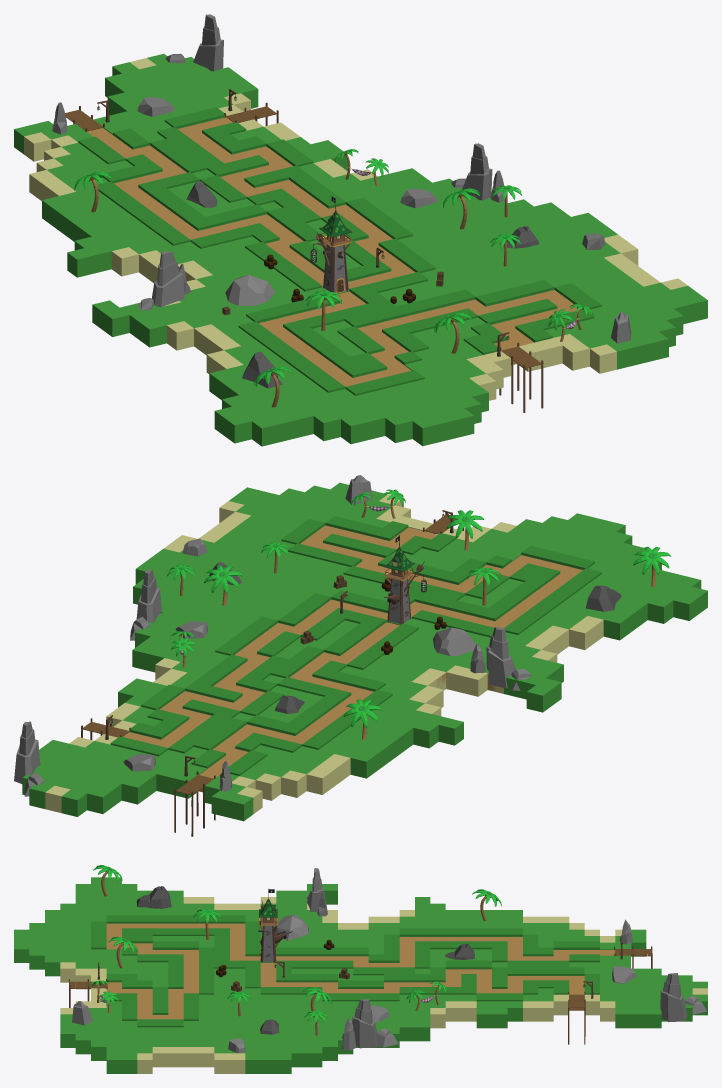
File: small island 3mer.fbx
The picture shows the model from 3 angles, top to bottom: view 1: azimuth 30°, elevation 25°; view 2: azimuth 150°, elevation 25°; view 3: azimuth 270°, elevation 25°; orthographic projection. The views are drawn at different scales.
Parts seen in each view (by area): view 1: Rock.009, Palm Tree.001, Tower, Dock.001, Lampost, Grass.560, Sand.012, Grass.437, Grass.608, Grass.337, Sand.027, Grass.082 (+7 smaller); view 2: Rock.009, Palm Tree.001, Tower, Dock.002, Lampost, Grass.368, Grass.556, Grass.093, Grass.802, Grass.369, Grass.522, Grass.042 (+8 smaller); view 3: Rock.009, Palm Tree.001, Tower, Dock, Lampost, Dock.002, Dock.001, Grass.020, Sand.006, Sand.041, Grass.602.
Part boxes in pixels (<box>): Rock.009: <box>52,14,631,388</box>; Palm Tree.001: <box>74,149,593,407</box>; Tower: <box>310,196,352,293</box>; Dock.001: <box>497,332,543,412</box>; Lampost: <box>222,247,443,315</box>; Grass.560: <box>313,411,340,441</box>; Sand.012: <box>562,341,589,370</box>; Grass.437: <box>224,414,251,443</box>; Grass.608: <box>412,417,439,446</box>; Grass.337: <box>67,248,94,277</box>; Sand.027: <box>111,247,138,276</box>; Grass.082: <box>139,318,166,347</box>; Rock.009: <box>14,475,621,796</box>; Palm Tree.001: <box>167,489,670,739</box>; Tower: <box>384,535,426,624</box>; Dock.002: <box>174,756,215,836</box>; Lampost: <box>300,575,446,654</box>; Grass.368: <box>647,596,673,623</box>; Grass.556: <box>603,613,629,640</box>; Grass.093: <box>526,685,552,712</box>; Grass.802: <box>227,794,253,821</box>; Grass.369: <box>673,593,698,620</box>; Grass.522: <box>121,777,146,804</box>; Grass.042: <box>413,721,438,748</box>; Rock.009: <box>72,868,706,1053</box>; Palm Tree.001: <box>88,865,501,1035</box>; Tower: <box>258,888,292,962</box>; Dock: <box>568,981,593,1044</box>; Lampost: <box>216,938,349,991</box>; Dock.002: <box>614,938,652,968</box>; Dock.001: <box>69,962,107,1007</box>; Grass.020: <box>260,1053,276,1073</box>; Sand.006: <box>445,1001,461,1021</box>; Sand.041: <box>152,1047,168,1067</box>; Grass.602: <box>45,955,60,976</box>.
Size of what is drawn, in the model's own units: 2800 by 750 by 4500.
